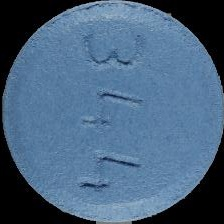43547-338: (0, 0, 224, 224)
